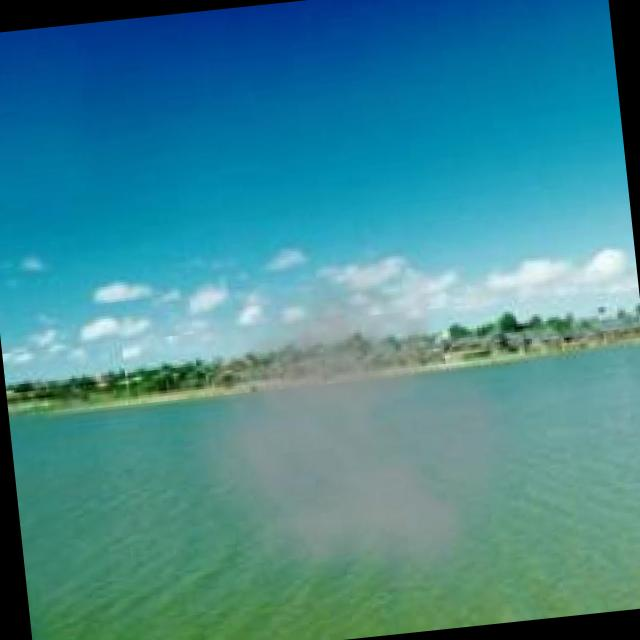Smoke: (153, 227, 553, 610)
